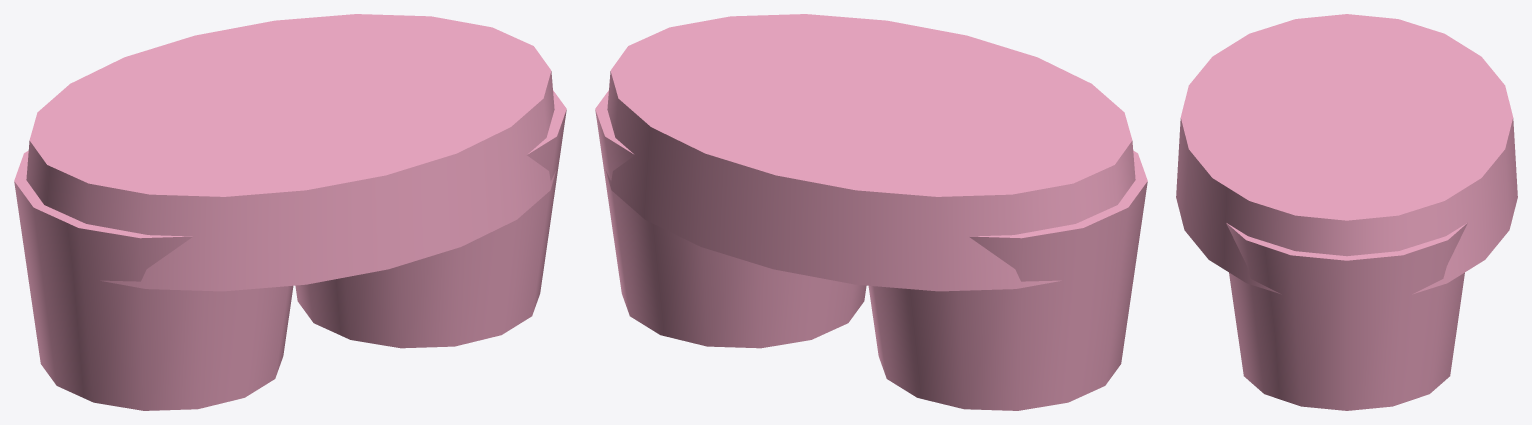
Rendered from bottom_cute_0.glb.
3 views of the same model, side by side, from view 1: azimuth 30°, elevation 25°; view 2: azimuth 150°, elevation 25°; view 3: azimuth 270°, elevation 25° (orthographic). The views are drawn at different scales.
Size of the model in its own units: 0.4256 by 0.1768 by 0.2818.
